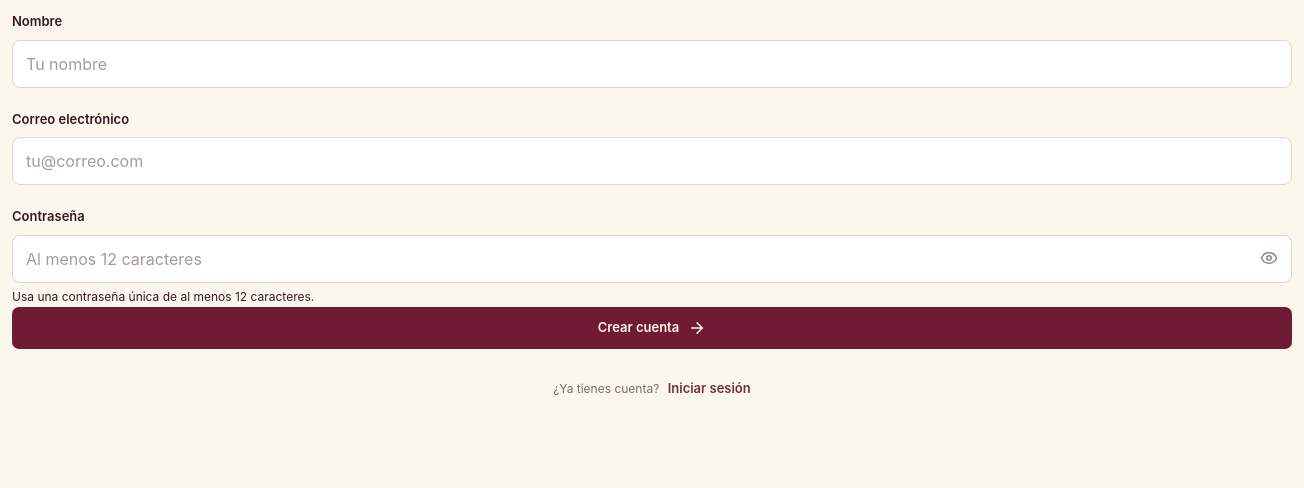
Test case: muestra un error claro si el proyecto no permite registro
Type "John" into the field labelled "Nombre" at (652, 64), box x1=12 y1=40 x2=1292 y2=88
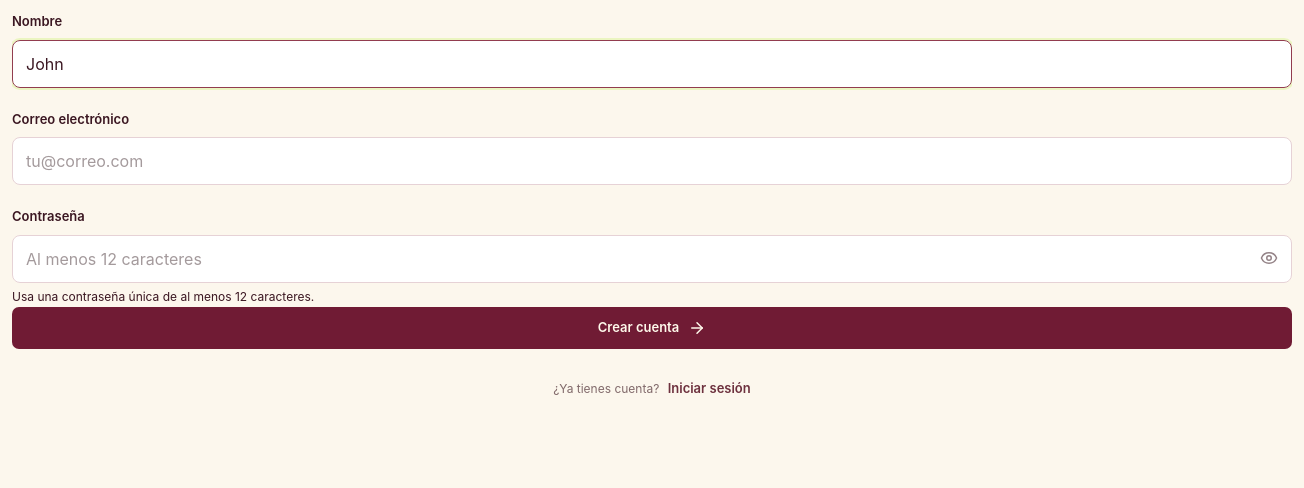
Type "john@example.com" into the field labelled "Correo electrónico" at (652, 161), box x1=12 y1=137 x2=1292 y2=185
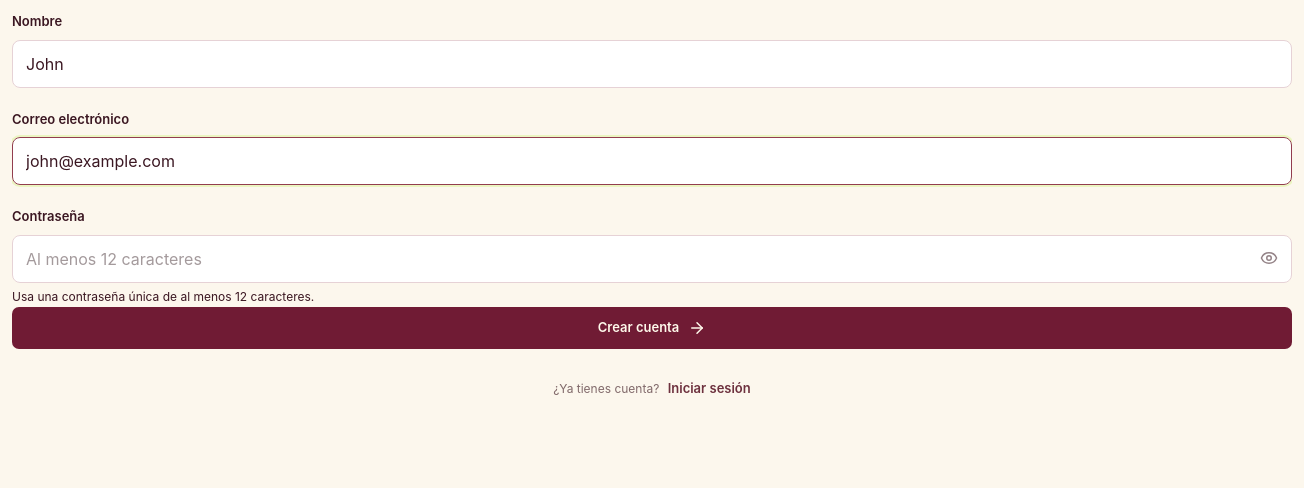
Type "UnaClaveSegura123!" into the password field labelled "Contraseña" at (652, 258), box x1=12 y1=234 x2=1292 y2=282
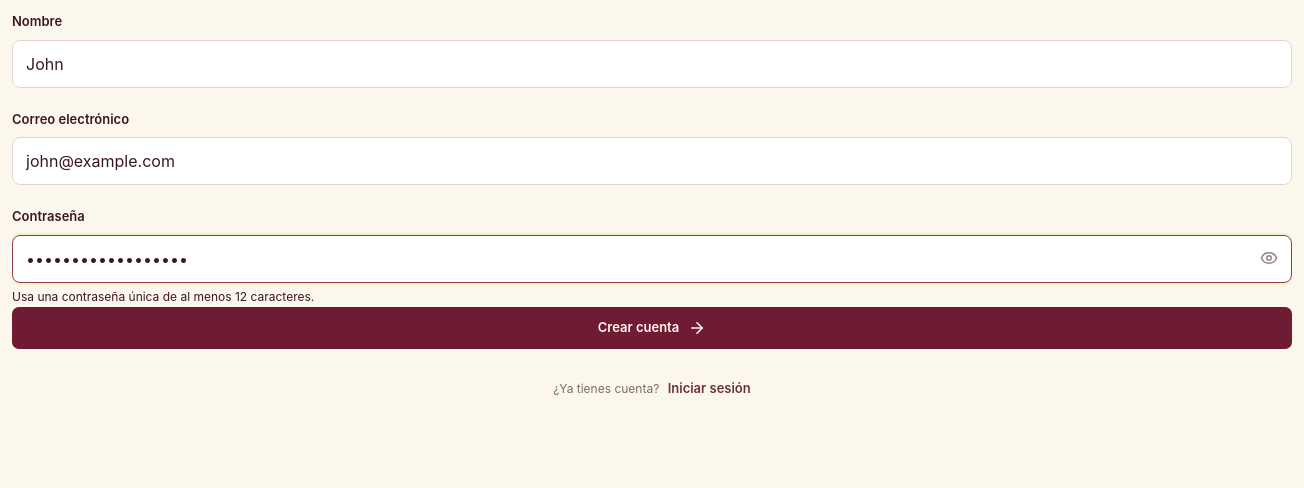
Click the button "Crear cuenta" at (652, 328), box x1=12 y1=306 x2=1292 y2=348
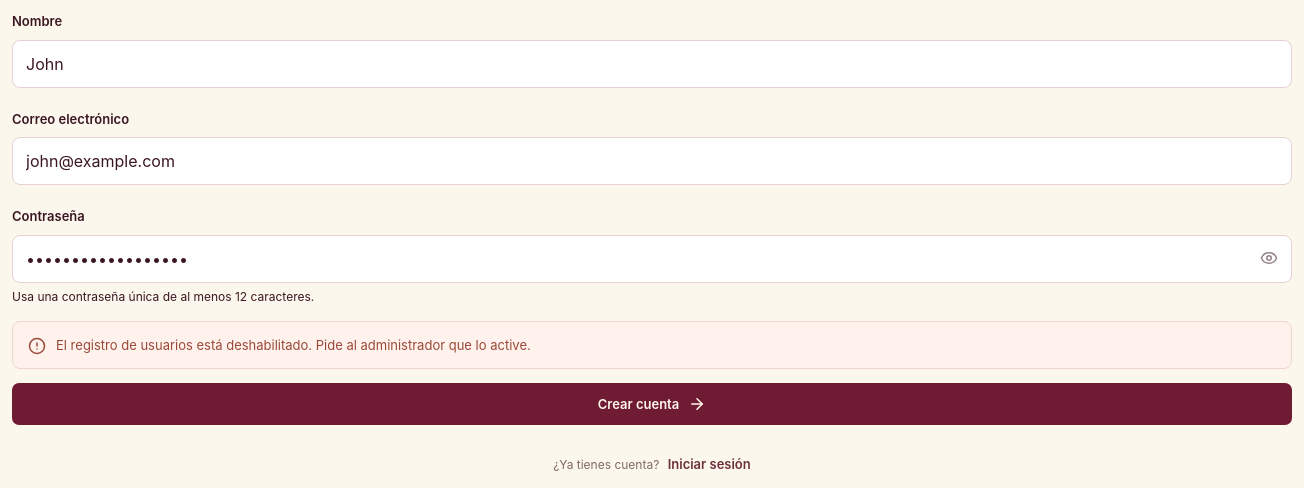
Check: the message shows "El registro de usuarios está deshabilitado", box x1=56 y1=336 x2=531 y2=352
